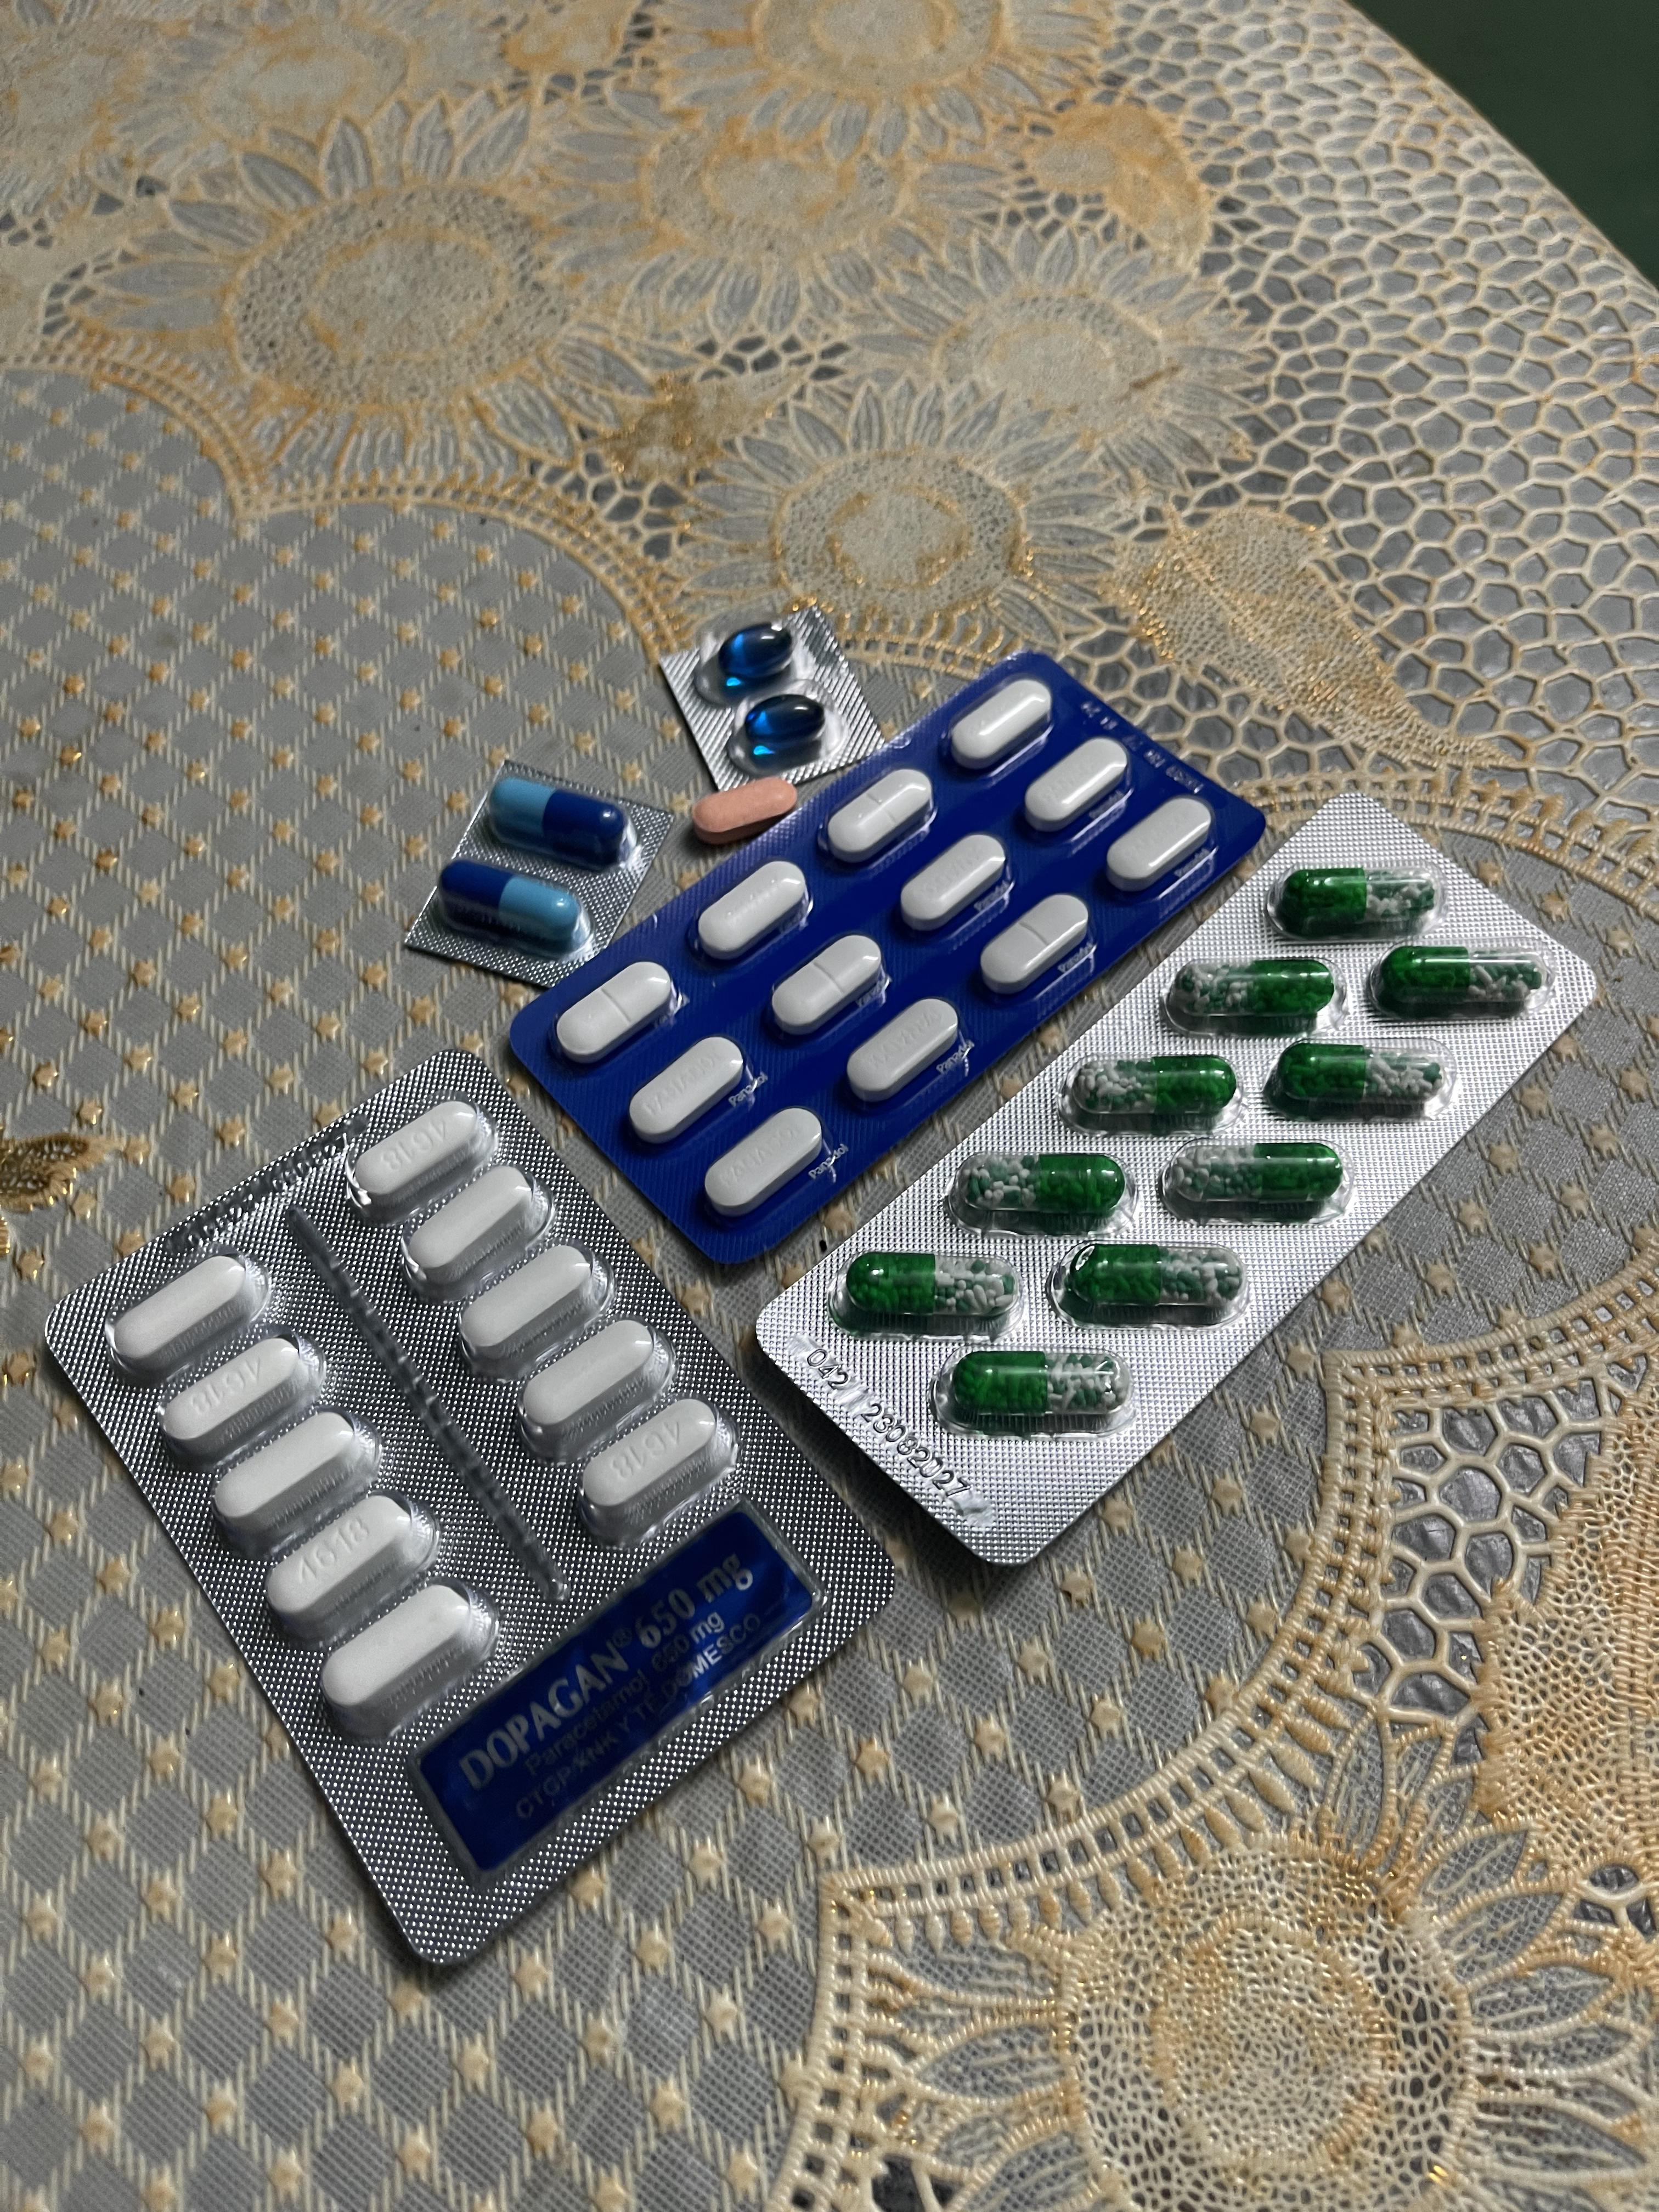Lincomyxin_500mg: (737, 691, 828, 765), (716, 622, 798, 686)
Loratadine_10mg: (690, 779, 802, 845)
Paracetamol_350mg: (624, 1035, 748, 1143), (704, 1106, 826, 1212), (556, 961, 678, 1068), (847, 998, 967, 1103), (695, 859, 812, 960), (770, 935, 885, 1036), (899, 831, 1009, 930), (978, 897, 1089, 995), (824, 766, 934, 864), (1026, 738, 1133, 834), (946, 678, 1054, 770), (1105, 796, 1209, 890)
Paracetamol_500mg: (314, 1583, 495, 1742), (265, 1489, 437, 1642), (207, 1409, 375, 1554), (579, 1399, 734, 1547), (518, 1322, 669, 1460), (162, 1332, 319, 1465), (108, 1252, 265, 1383), (455, 1244, 605, 1372), (403, 1167, 544, 1287), (347, 1106, 488, 1216)
Paracetamol_650mg: (847, 1251, 1032, 1329), (948, 1353, 1126, 1433), (1269, 1042, 1441, 1113), (1068, 1245, 1227, 1318), (1377, 946, 1546, 1014), (960, 1157, 1126, 1223), (1180, 958, 1333, 1029), (1274, 866, 1431, 934), (1072, 1059, 1229, 1127), (1168, 1148, 1335, 1207)
pill: (490, 775, 633, 867), (437, 862, 586, 951)
